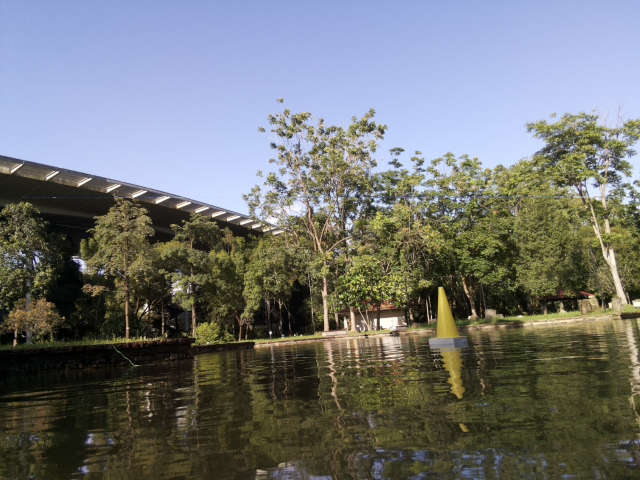checkpoint: (427, 286, 469, 350)
